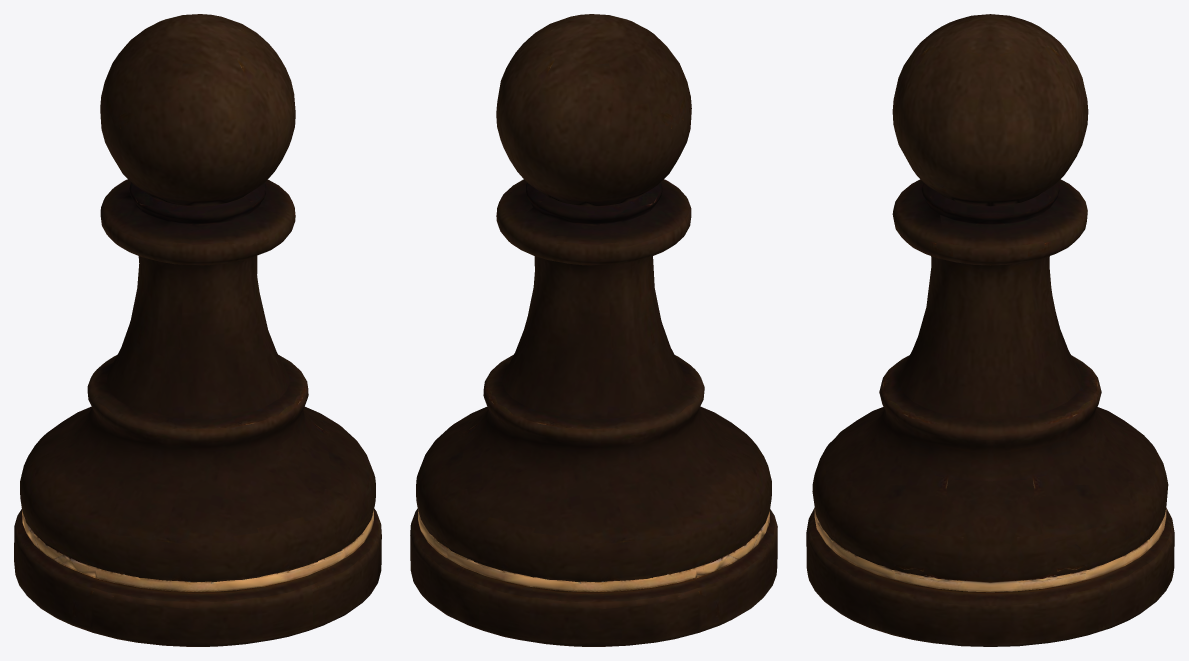
Rendered from pawn_dark.glb.
3 views of the same model, side by side, from view 1: azimuth 30°, elevation 25°; view 2: azimuth 150°, elevation 25°; view 3: azimuth 270°, elevation 25° (orthographic).
Visible parts, largest first — view 1: geometry_0; view 2: geometry_0; view 3: geometry_0.
Boxes of the visible parts, x1,y1,x2,y2 form: geometry_0: (14,14,381,646); geometry_0: (410,14,777,646); geometry_0: (806,14,1174,646).
Bounding box in the file's own units: 0.4515 × 0.7399 × 0.451.
Materials: 1 (1 with a texture image).
